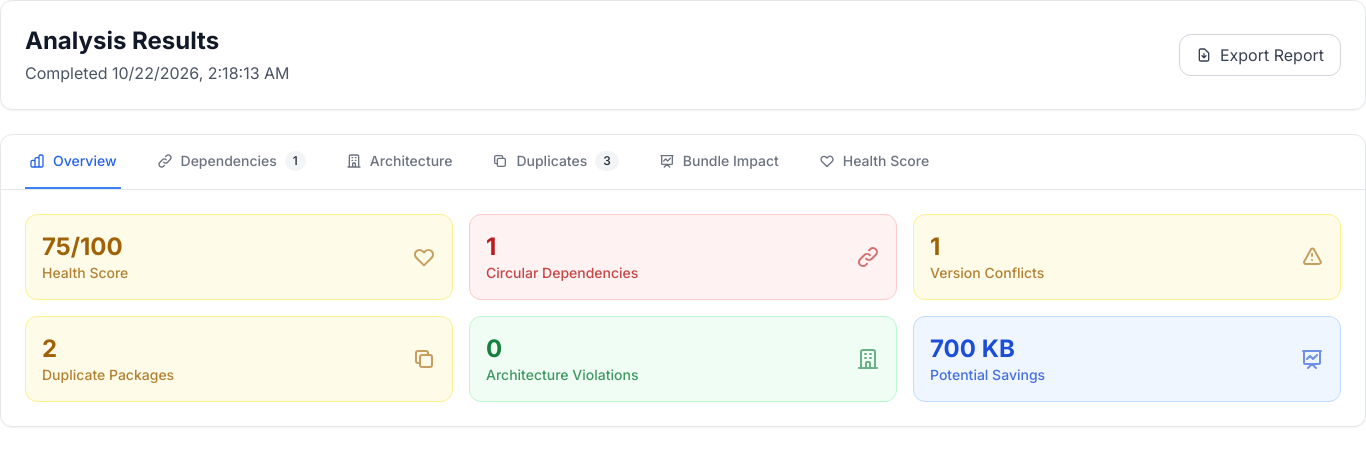
Scenario: AnalysisResults › Empty States › [P1] should display empty state for missing architecture validation
// Architecture tab is clicked
What coordinates should you click on to do the following:
click the button "Architecture"
I would click on:
 (399, 162)
Its box is [342, 135, 456, 189].
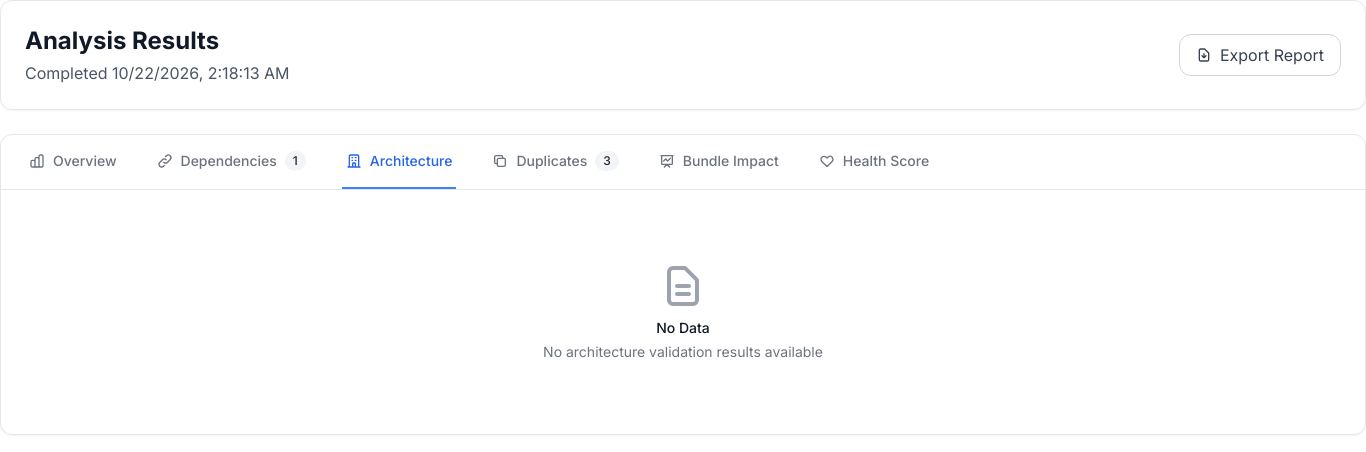
Now the text "No architecture validation results available" is shown, box [543, 343, 823, 360]
